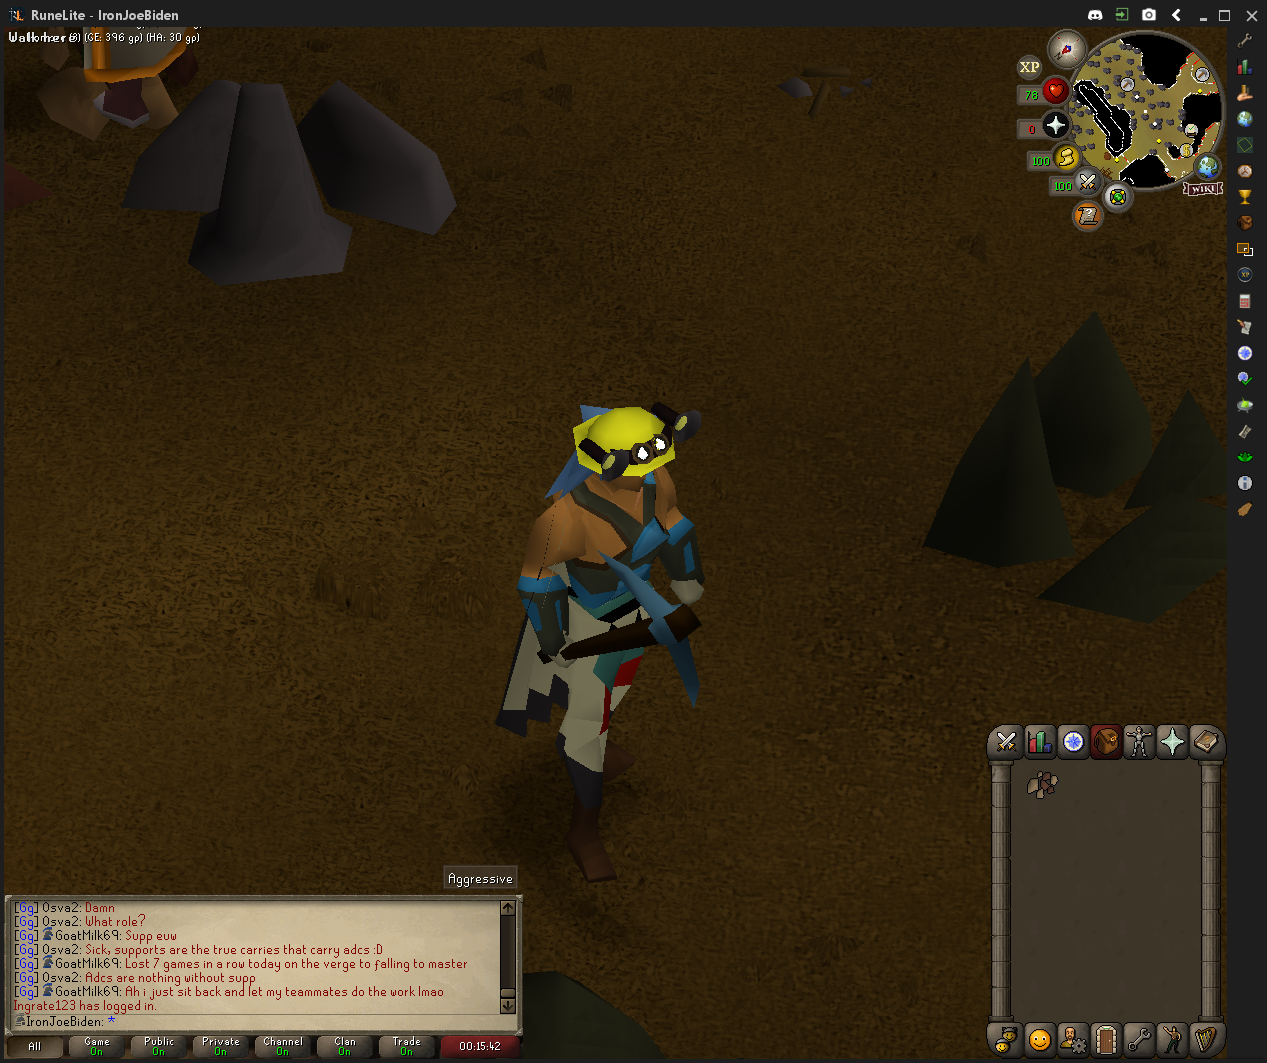rune_pickaxe: (531, 548, 708, 707)
